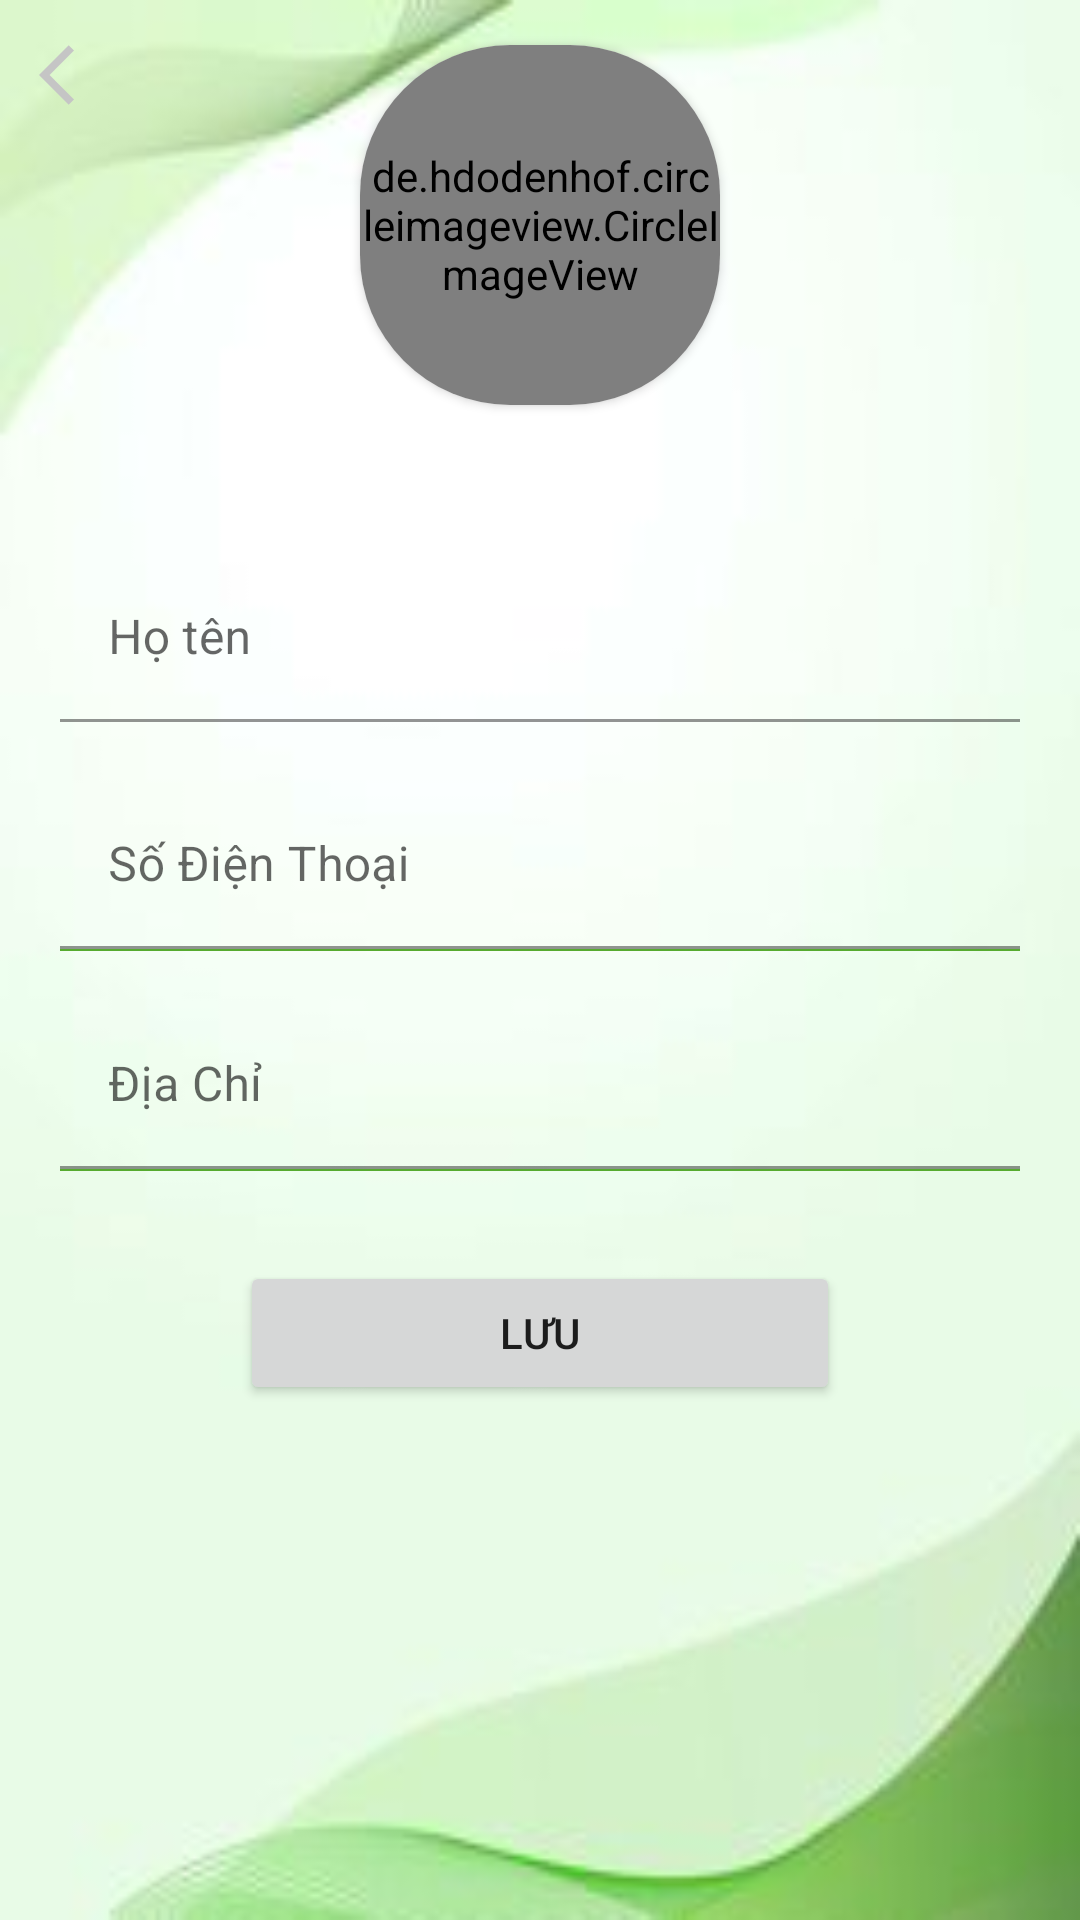

Point at icon controls on the screen. Image size 1080*1920, points as [x,y].
arrow back: [56,75]
